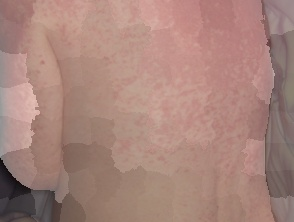SJS-TEN: (0, 0, 276, 218)
